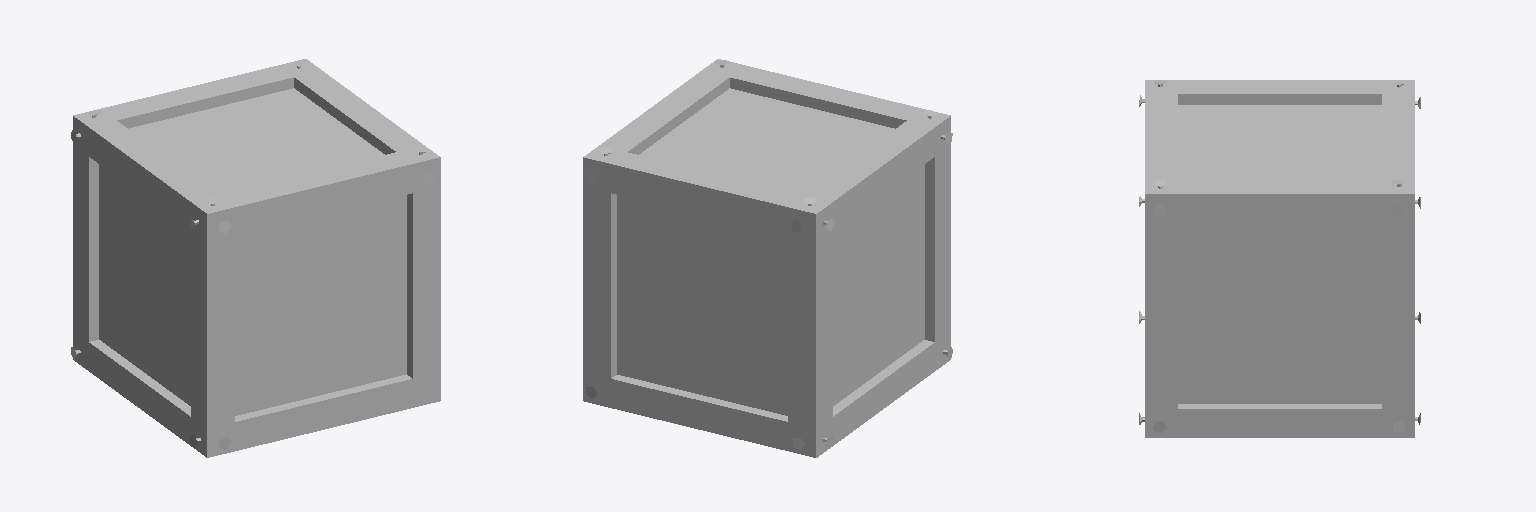
The model's file is Food_Crate.obj.
3 views of the same model, side by side, from view 1: azimuth 30°, elevation 25°; view 2: azimuth 150°, elevation 25°; view 3: azimuth 270°, elevation 25° (orthographic).
Parts seen in each view (by area): view 1: Food_Crate; view 2: Food_Crate; view 3: Food_Crate.
Boxes of the visible parts, x1,y1,x2,y2 form: Food_Crate: [71, 59, 440, 457]; Food_Crate: [583, 59, 952, 457]; Food_Crate: [1139, 80, 1420, 437].
Size of the model in its own units: 52.72 by 51.07 by 52.39.